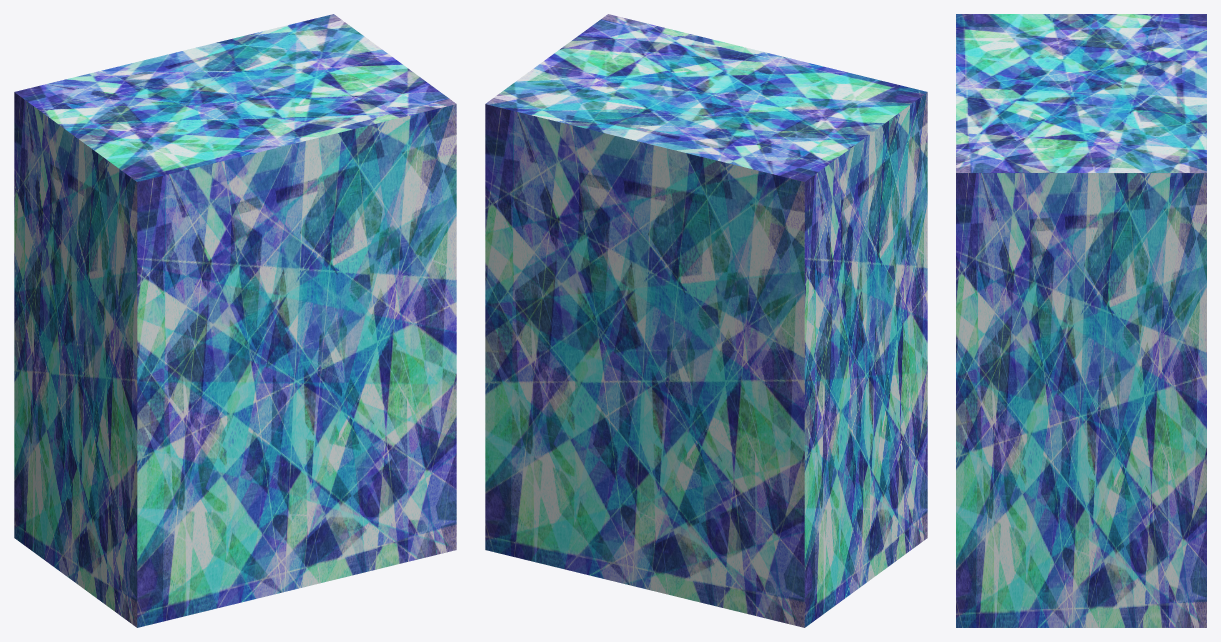
The model's file is Dossun.fbx.
3 renders of one model, left to right at view 1: azimuth 30°, elevation 25°; view 2: azimuth 150°, elevation 25°; view 3: azimuth 270°, elevation 25°, orthographic. The views are drawn at different scales.
Visible parts, largest first — view 1: Box001; view 2: Box001; view 3: Box001.
Part boxes in pixels (<box>): Box001: <box>14,14,456,627</box>; Box001: <box>485,14,927,627</box>; Box001: <box>956,14,1206,627</box>.
Size of the model in its own units: 150 by 100 by 200.
1 material, 1 textured.
